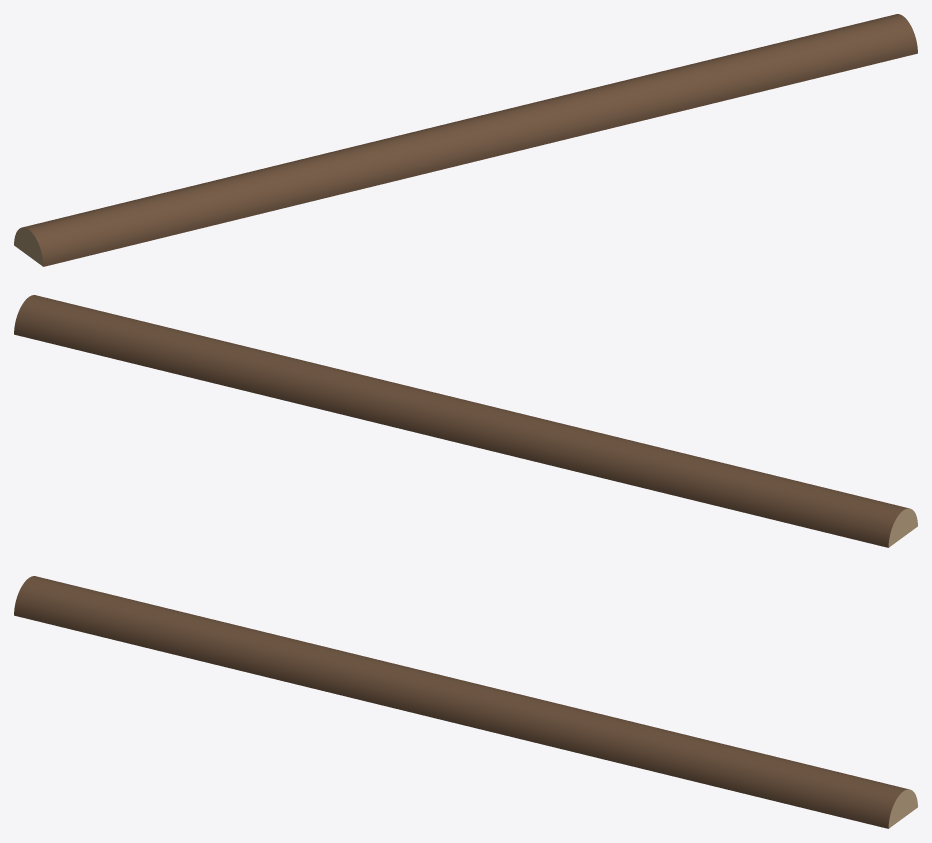
File: SM_RawLog_600_Half.fbx
The picture shows the model from 3 angles, top to bottom: view 1: azimuth 30°, elevation 25°; view 2: azimuth 150°, elevation 25°; view 3: azimuth 330°, elevation 25°; orthographic projection.
Parts seen in each view (by area): view 1: RawLog_600_Half; view 2: RawLog_600_Half; view 3: RawLog_600_Half.
Part boxes in pixels (left/top/right/bottom): RawLog_600_Half: left=14, top=14, right=917, bottom=266; RawLog_600_Half: left=14, top=295, right=917, bottom=547; RawLog_600_Half: left=14, top=576, right=917, bottom=828.
Size of what is drawn, in the model's own units: 6 by 0.175 by 0.35.
